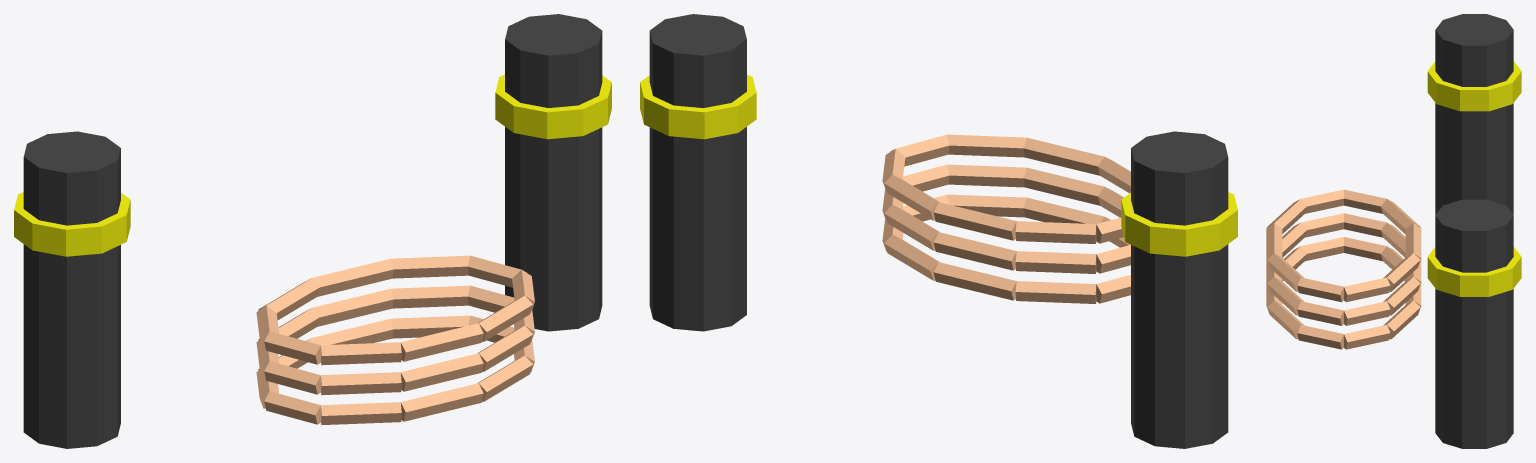
The picture shows the model from 3 angles, left to right: view 1: azimuth 30°, elevation 25°; view 2: azimuth 150°, elevation 25°; view 3: azimuth 270°, elevation 25°; orthographic projection. The views are drawn at different scales.
Parts seen in each view (by area): view 1: Mooring post, Mooring post.001, Post collar, Post collar.001, Coiled rope.007, Coiled rope.017, Coiled rope.027, Coiled rope.016, Coiled rope.026, Coiled rope.006, Coiled rope.012, Coiled rope.022 (+15 smaller); view 2: Mooring post, Mooring post.001, Post collar, Post collar.001, Coiled rope.022, Coiled rope.002, Coiled rope.012, Coiled rope.003, Coiled rope.023, Coiled rope.013, Coiled rope.027, Coiled rope.017 (+12 smaller); view 3: Mooring post.001, Mooring post, Post collar, Post collar.001, Coiled rope.029, Coiled rope.019, Coiled rope.009, Coiled rope, Coiled rope.020, Coiled rope.010, Coiled rope.025, Coiled rope.015 (+18 smaller).
Part boxes in pixels (left/top/right/bottom): Mooring post: left=23, top=131, right=120, bottom=448; Mooring post.001: left=505, top=14, right=602, bottom=331; Post collar: left=14, top=192, right=130, bottom=256; Post collar.001: left=495, top=74, right=611, bottom=139; Coiled rope.007: left=400, top=383, right=483, bottom=421; Coiled rope.017: left=400, top=353, right=483, bottom=391; Coiled rope.027: left=401, top=323, right=483, bottom=361; Coiled rope.016: left=321, top=372, right=401, bottom=395; Coiled rope.026: left=321, top=342, right=401, bottom=365; Coiled rope.006: left=321, top=402, right=401, bottom=424; Coiled rope.012: left=313, top=288, right=393, bottom=326; Coiled rope.022: left=313, top=258, right=393, bottom=296; Mooring post: left=1131, top=131, right=1228, bottom=448; Mooring post.001: left=649, top=14, right=746, bottom=331; Post collar: left=1121, top=192, right=1237, bottom=256; Post collar.001: left=640, top=74, right=756, bottom=139; Coiled rope.022: left=933, top=202, right=1016, bottom=240; Coiled rope.002: left=933, top=262, right=1016, bottom=300; Coiled rope.012: left=933, top=232, right=1016, bottom=270; Coiled rope.003: left=1015, top=281, right=1096, bottom=303; Coiled rope.023: left=1015, top=221, right=1096, bottom=243; Coiled rope.013: left=1015, top=251, right=1096, bottom=273; Coiled rope.027: left=1023, top=137, right=1104, bottom=175; Coiled rope.017: left=1023, top=167, right=1104, bottom=205; Mooring post.001: left=1435, top=199, right=1513, bottom=448; Mooring post: left=1435, top=14, right=1513, bottom=214; Post collar: left=1427, top=61, right=1521, bottom=111; Post collar.001: left=1427, top=247, right=1521, bottom=296; Coiled rope.029: left=1297, top=277, right=1343, bottom=302; Coiled rope.019: left=1297, top=301, right=1343, bottom=325; Coiled rope.009: left=1297, top=325, right=1343, bottom=349; Coiled rope: left=1344, top=325, right=1390, bottom=349; Coiled rope.020: left=1344, top=277, right=1390, bottom=302; Coiled rope.010: left=1344, top=301, right=1390, bottom=325; Coiled rope.025: left=1301, top=189, right=1343, bottom=213; Coiled rope.015: left=1301, top=213, right=1343, bottom=237.
Size of the model in its own units: 1.01 by 0.46 by 0.4884.
1 material, 1 textured.
